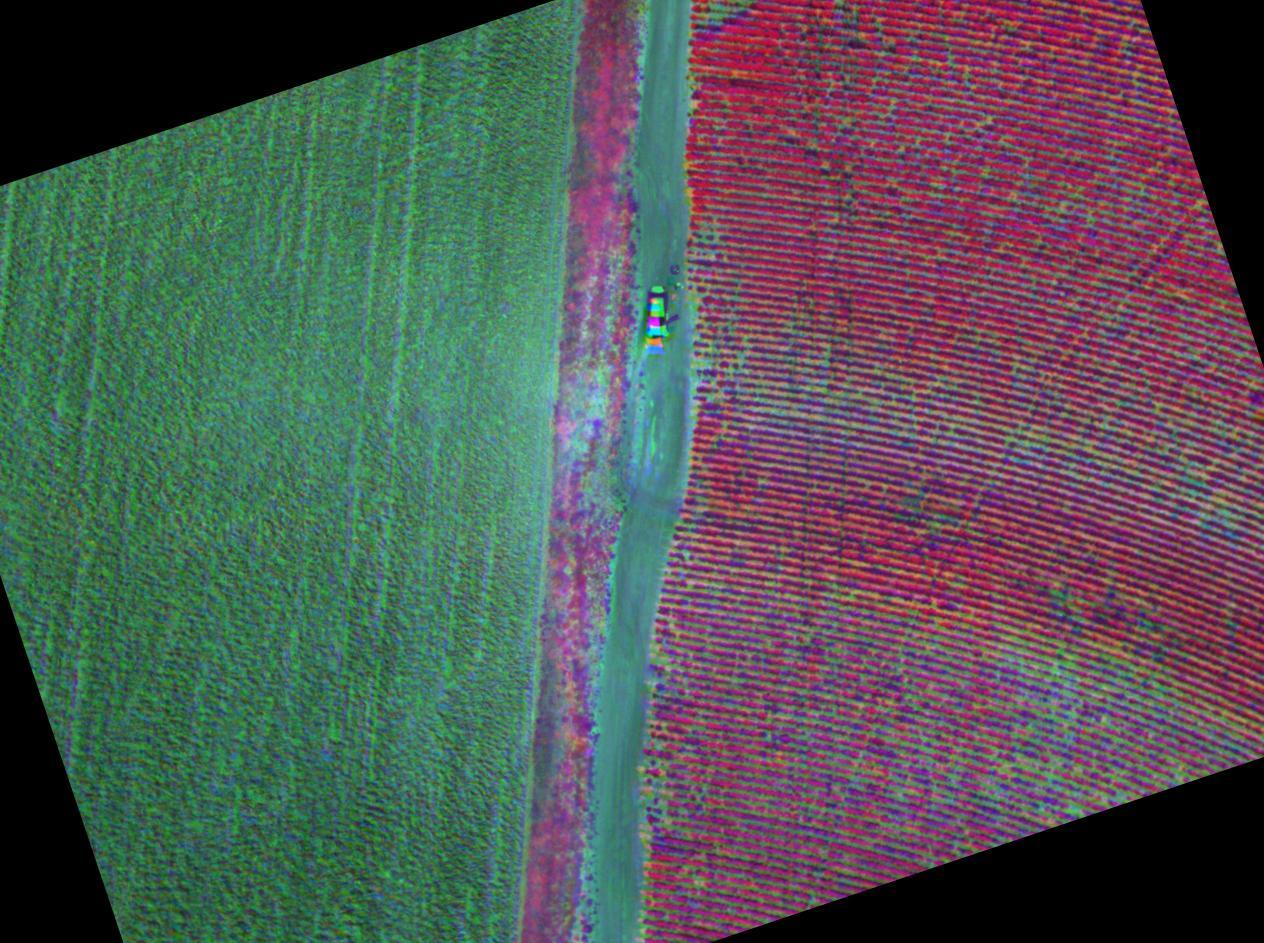dc: (696, 879, 703, 886), (666, 817, 670, 826), (1071, 806, 1077, 811), (1103, 719, 1108, 724), (1056, 758, 1061, 762), (1001, 768, 1006, 772)
